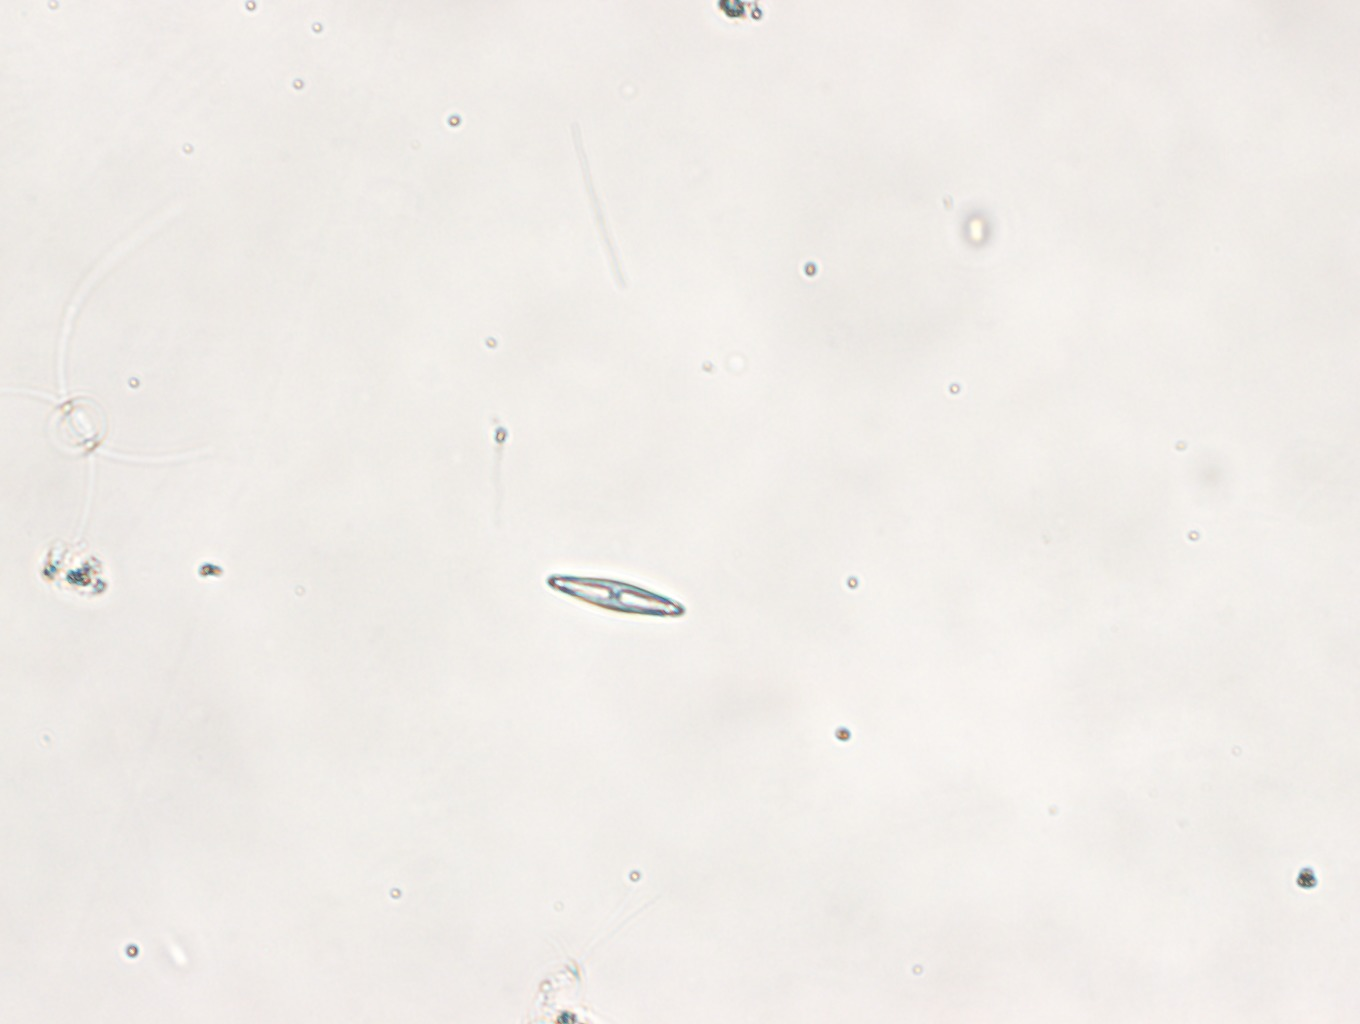navicula: (547, 570, 683, 620)
